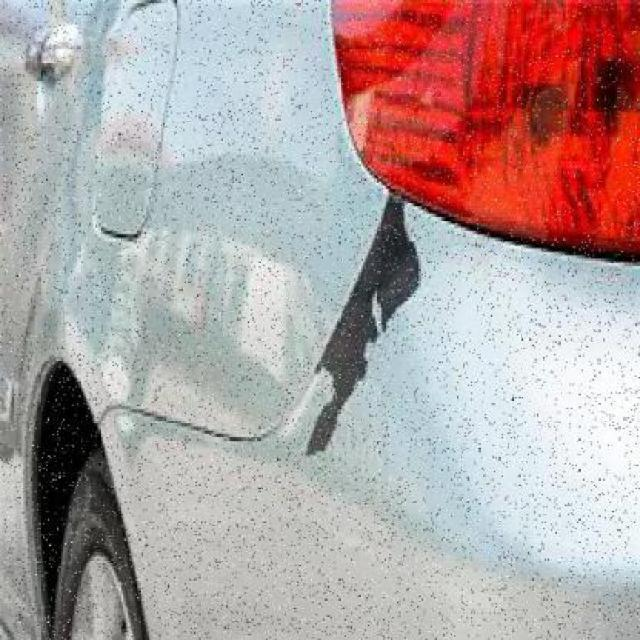rear-bumper-dent: (100, 321, 638, 637)
